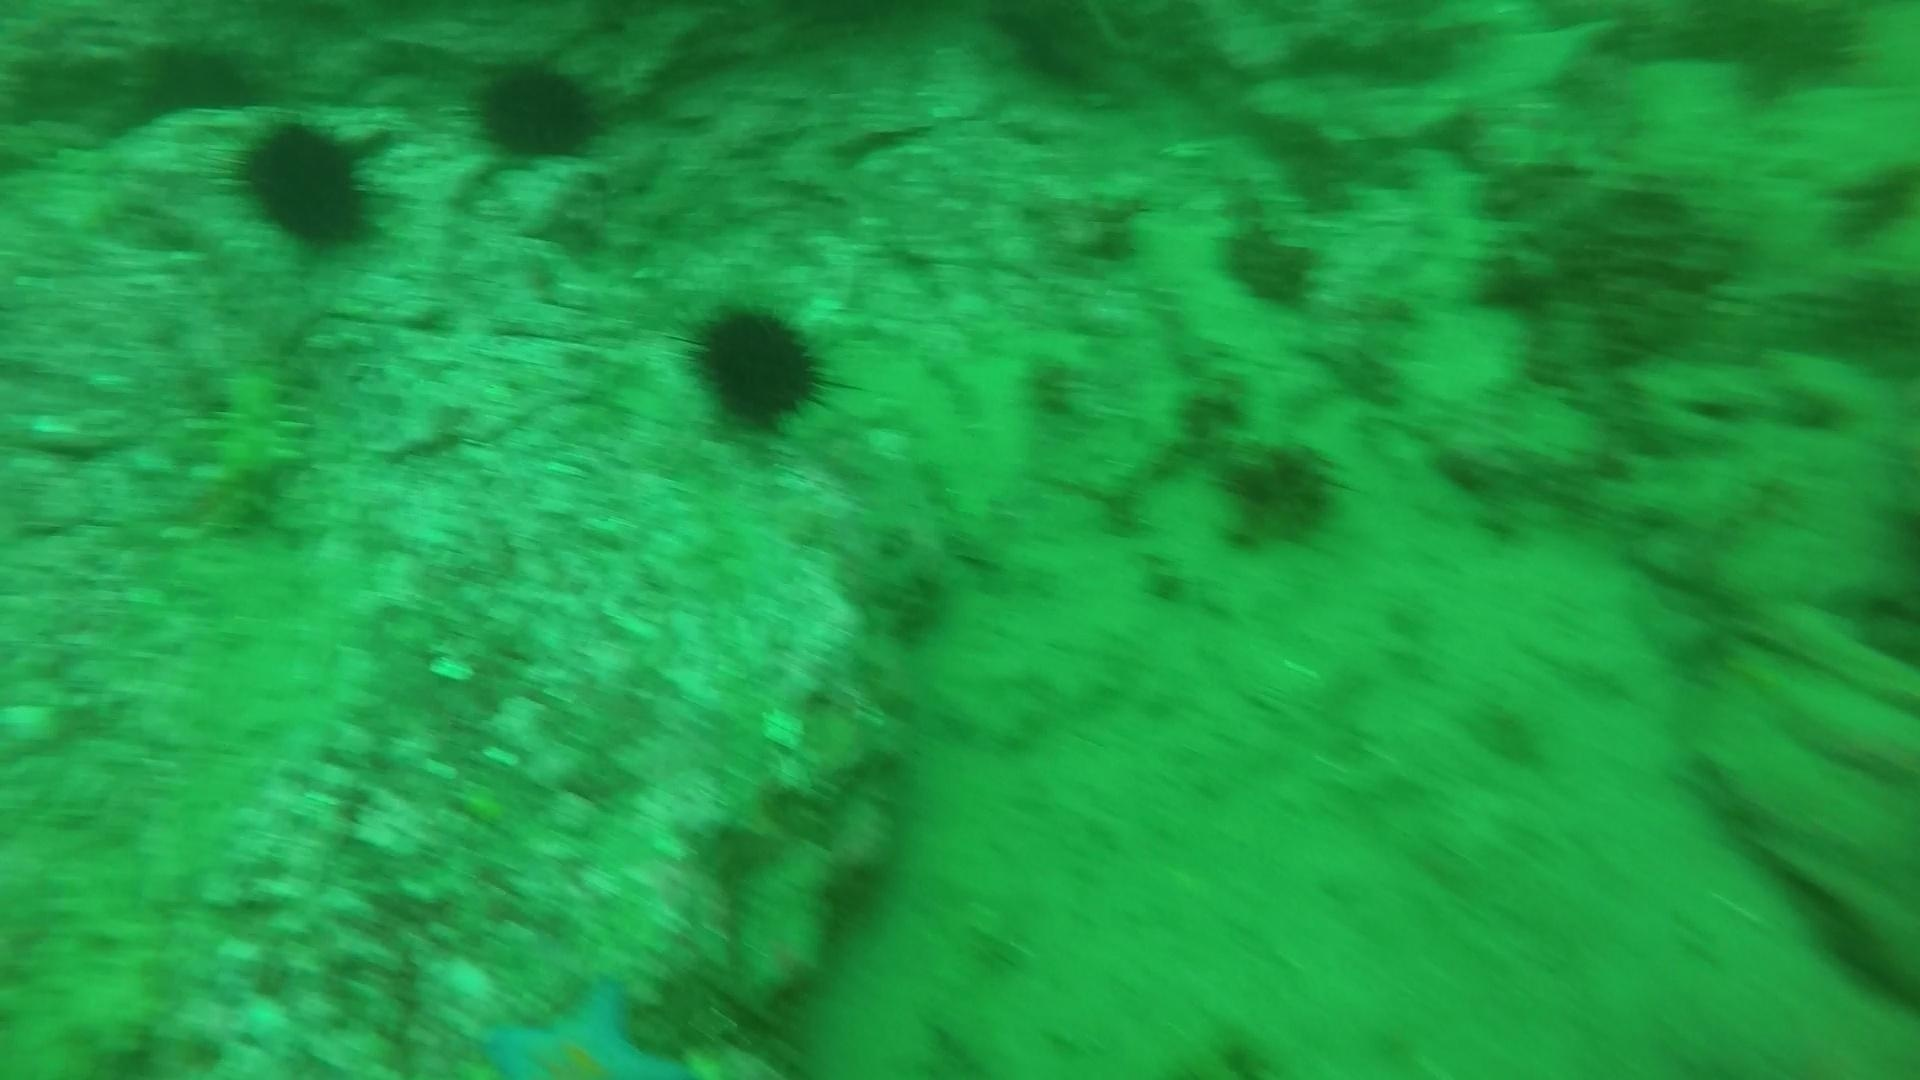echinus: (222, 108, 397, 260), (676, 294, 840, 438), (1696, 3, 1875, 105), (463, 50, 611, 169), (131, 33, 260, 128)
holothurian: (186, 348, 318, 534)
starfish: (473, 971, 683, 1073)
